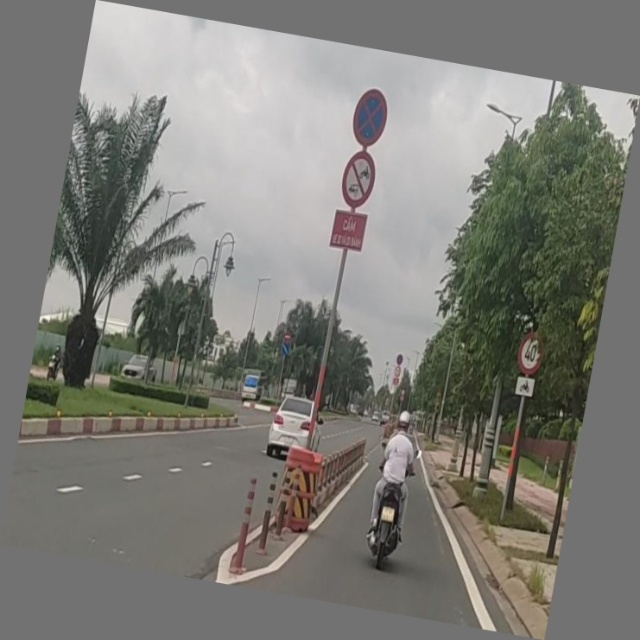P.111: (335, 146, 381, 211)
P.127*40: (515, 328, 548, 378)
P.130: (346, 78, 393, 150)
S.505a*Xe may: (513, 370, 538, 398)
